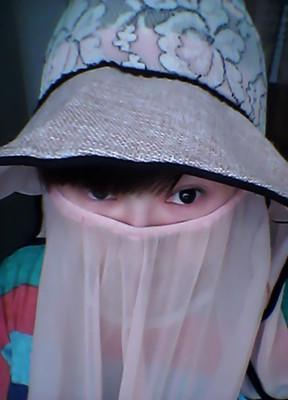OK: (58, 161, 220, 323)
